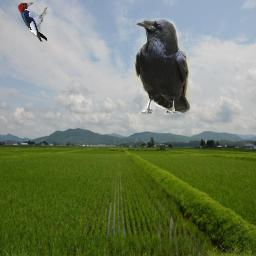Crow: (134, 18, 190, 114)
Woodpecker: (17, 1, 49, 43)
